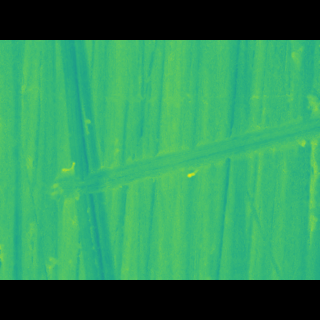Loch: (46, 116, 319, 193), (55, 68, 121, 250), (298, 92, 319, 232)
